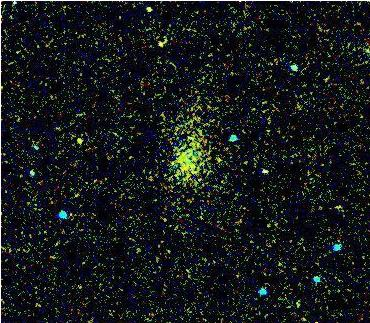star: (65, 124, 95, 154)
